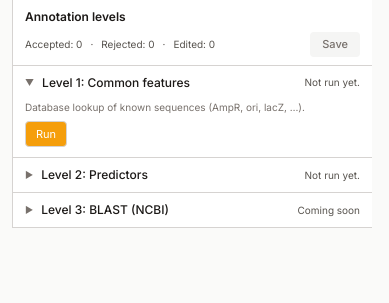
Test: LevelPanel — three-level progression › L2 and L3 collapsed by default — Run buttons not in DOM until expanded
Expected: the number of elements with test id "annotator-level-body" is 1, [25,100,305,147]
// After expanding L2, its Run button appears.
Click the button with test id "annotator-level-header" that starts with "Level 2: Predictors".
click(95, 174)  # box [13,158,372,192]
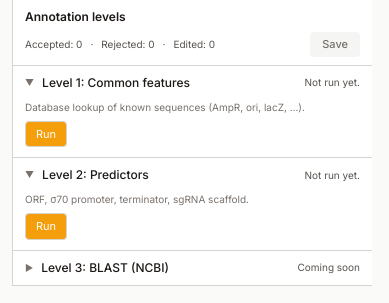
Expected: the number of elements with test id "annotator-level-body" is 2, [25,100,305,147]; [25,193,249,240]
